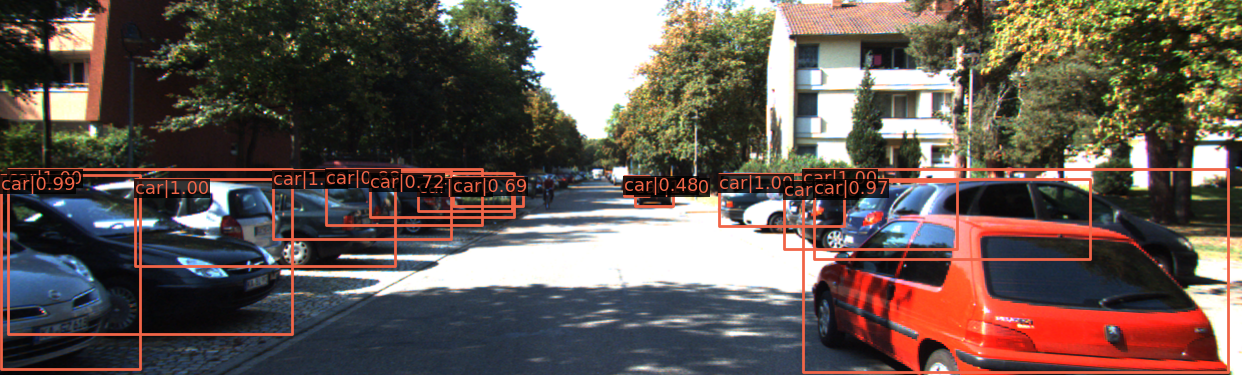car: (809, 202, 1235, 375), (1, 171, 289, 337), (877, 173, 1207, 295), (1, 175, 287, 292), (1, 173, 130, 375), (129, 188, 381, 281), (837, 183, 1065, 274), (174, 179, 408, 257), (795, 185, 970, 256), (313, 163, 469, 233), (287, 173, 446, 237), (740, 180, 893, 238), (785, 180, 916, 242), (717, 183, 857, 229), (718, 173, 834, 224), (415, 176, 516, 210), (440, 180, 527, 210), (635, 180, 672, 207), (628, 179, 651, 198)
